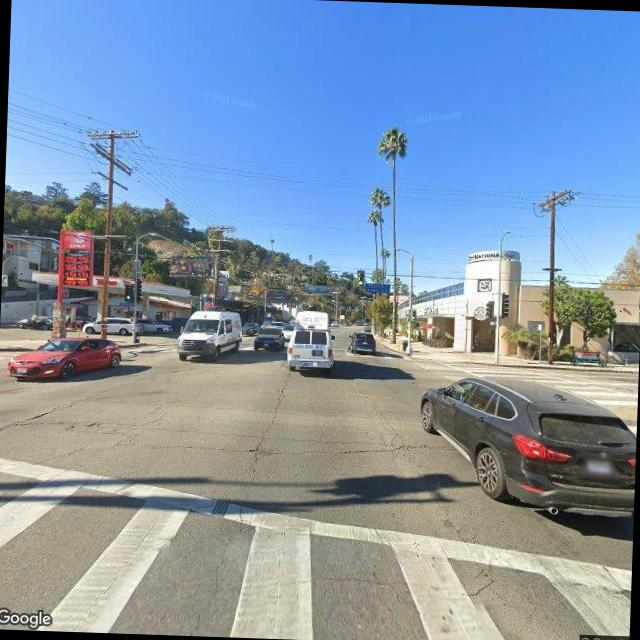crack: (38, 418, 428, 462), (226, 375, 289, 520)
